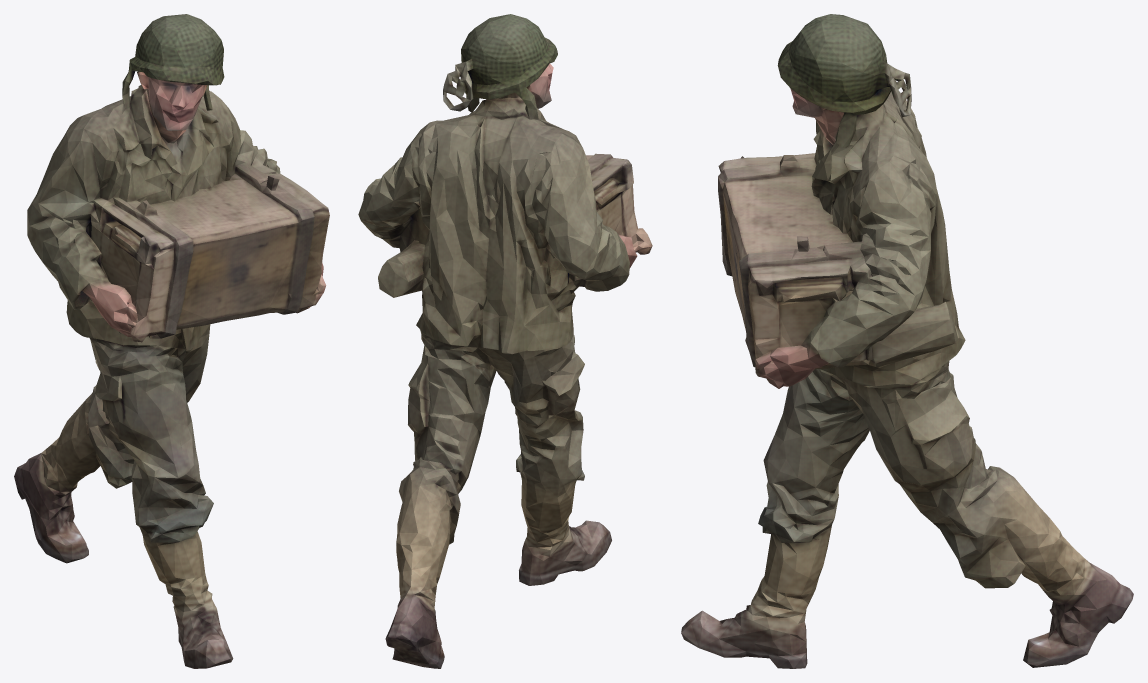
The model's file is walk_us_crate_a.obj.
3 renders of one model, left to right at view 1: azimuth 30°, elevation 25°; view 2: azimuth 150°, elevation 25°; view 3: azimuth 270°, elevation 25°, orthographic. The views are drawn at different scales.
Parts seen in each view (by area): view 1: walk_us_crate_a; view 2: walk_us_crate_a; view 3: walk_us_crate_a.
Boxes of the visible parts, x1,y1,x2,y2 form: walk_us_crate_a: (14, 14, 329, 668); walk_us_crate_a: (358, 14, 652, 668); walk_us_crate_a: (681, 14, 1133, 668).
Size of the model in its own units: 0.7918 by 1.8 by 1.14.
1 material, 1 textured.
